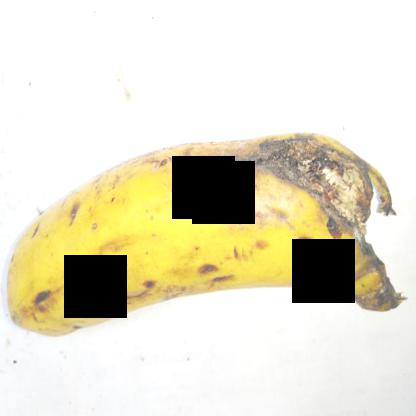ripe: (10, 119, 273, 342)
rotten: (222, 62, 396, 252)
